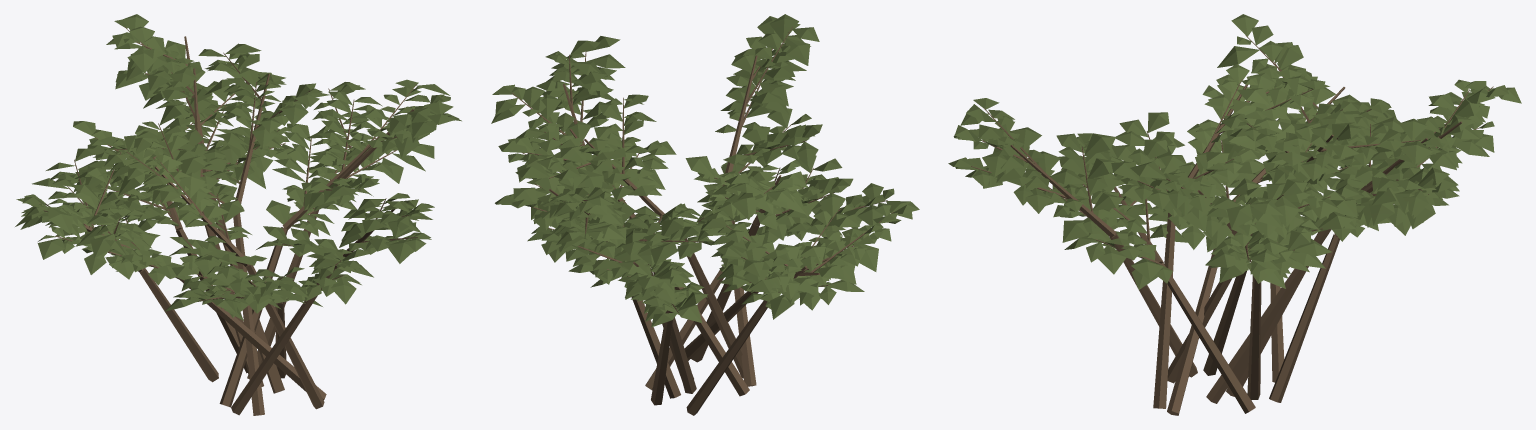
File: ScrubLow.glb
3 renders of one model, left to right at view 1: azimuth 30°, elevation 25°; view 2: azimuth 150°, elevation 25°; view 3: azimuth 270°, elevation 25°, orthographic. The views are drawn at different scales.
Visible parts, largest first — view 1: ScrubLowVisual; view 2: ScrubLowVisual; view 3: ScrubLowVisual.
Boxes of the visible parts, left/top/right/bottom form: ScrubLowVisual: left=15, top=14, right=461, bottom=415; ScrubLowVisual: left=491, top=14, right=919, bottom=415; ScrubLowVisual: left=948, top=14, right=1521, bottom=415.
Size of the model in its own units: 1.4 by 0.8997 by 1.51.
